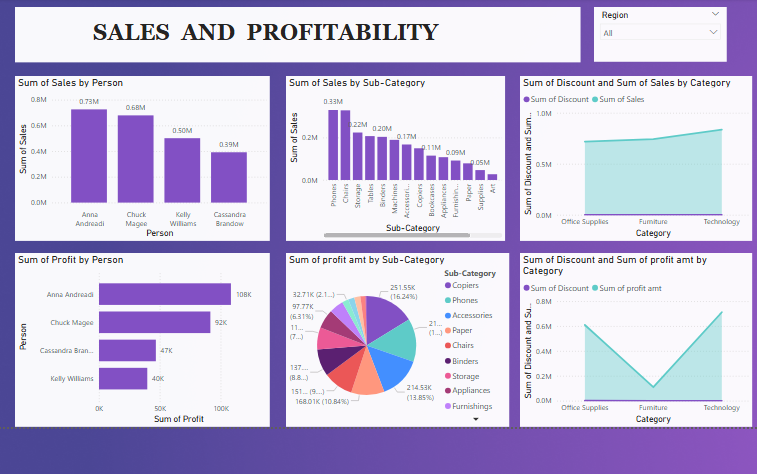

What the dashboard file says about the page in this screenshot:
{"tool":"powerbi","page":{"name":"SALES PROFIT","canvas":[1280,720],"ordinal":1},"visuals":[{"type":"textbox","box":[30,15,950,93.3],"z":0},{"type":"columnChart","fields":{"Category":["People.Person"],"Y":["Sum(Orders.Sales)"]},"box":[30,131.7,428.3,276.7],"z":1000},{"type":"barChart","fields":{"Category":["People.Person"],"Y":["Sum(Orders.Profit)"]},"box":[30,428.3,428.3,291.7],"z":2000},{"type":"clusteredColumnChart","fields":{"Category":["Orders.Sub-Category"],"Y":["Sum(Orders.Sales)"]},"box":[485,131.7,368.3,276.7],"z":3000},{"type":"pieChart","fields":{"Y":["Sum(Orders.profit amt)"],"Category":["Orders.Sub-Category"]},"box":[485,428.3,375,291.7],"z":4000},{"type":"areaChart","fields":{"Category":["Orders.Category"],"Y":["Sum(Orders.Discount)","Sum(Orders.Sales)"]},"box":[878.3,131.7,390,276.7],"z":5000},{"type":"areaChart","fields":{"Y":["Sum(Orders.Discount)","Sum(Orders.profit amt)"],"Category":["Orders.Category"]},"box":[878.3,428.3,390,291.7],"z":6000},{"type":"slicer","fields":{"Values":["Orders.Region"]},"box":[1003.3,15,223.3,91.7],"z":7000}]}

Visuals, with their boxes on the page's 1280x720 design canvas (x1, y1, x2, y2). These are canvas units, not pixel positions in the 757x474 screenshot, which may show the page scaled, cropped or inside an application window:
textbox: l=30, t=15, r=980, b=108
columnChart - People.Person x Sum(Orders.Sales): l=30, t=132, r=458, b=408
barChart - People.Person x Sum(Orders.Profit): l=30, t=428, r=458, b=720
clusteredColumnChart - Orders.Sub-Category x Sum(Orders.Sales): l=485, t=132, r=853, b=408
pieChart - Sum(Orders.profit amt) x Orders.Sub-Category: l=485, t=428, r=860, b=720
areaChart - Orders.Category x Sum(Orders.Discount): l=878, t=132, r=1268, b=408
areaChart - Sum(Orders.Discount) x Sum(Orders.profit amt): l=878, t=428, r=1268, b=720
slicer - Orders.Region: l=1003, t=15, r=1227, b=107
